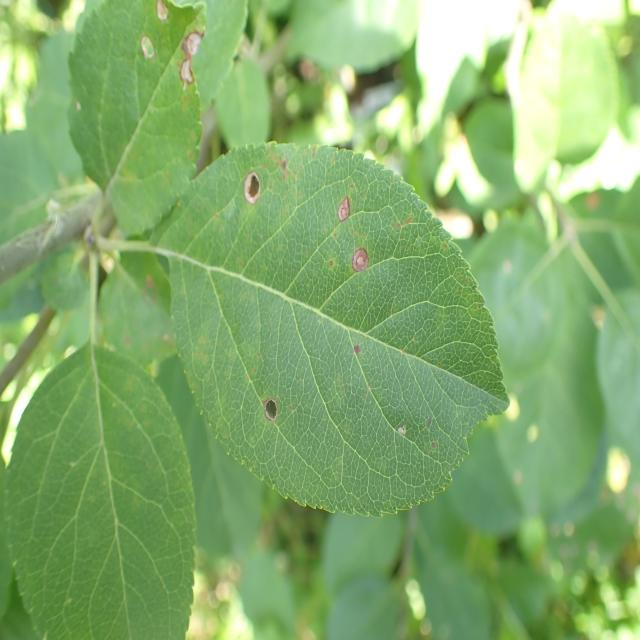Black Rot: (256, 384, 294, 454), (174, 19, 206, 98), (334, 246, 380, 291), (235, 160, 263, 227), (332, 180, 359, 228), (141, 27, 160, 66), (151, 0, 176, 26), (231, 72, 232, 73)
